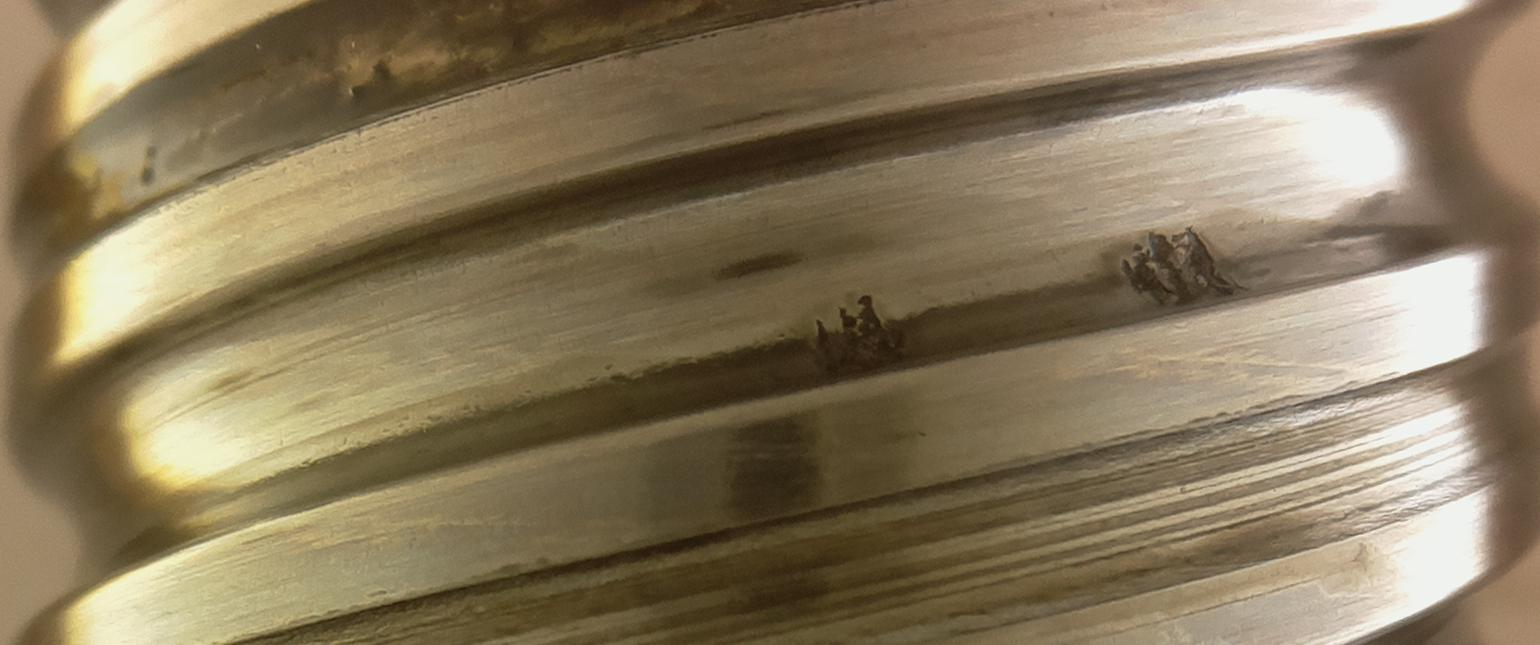pitting: (1121, 225, 1249, 305), (816, 295, 904, 380)
